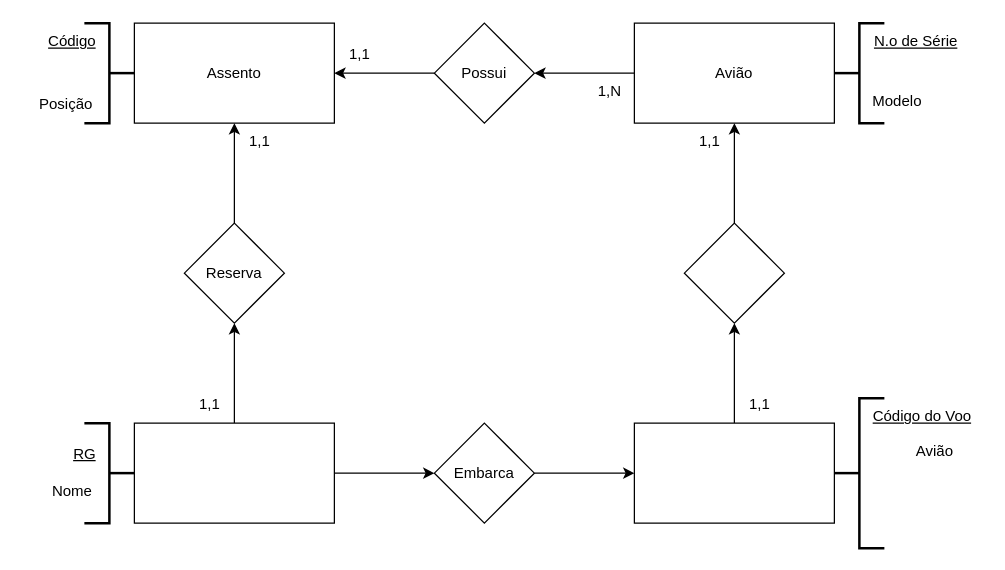
Some shapes in this 1005 by 570 pixel diagram are drawn without their labels. Here are the shapes that lost their labels. From the top down, the centre of each, then its label:
At point 733,272: "Feito por".
At point 233,472: "Passageiro".
At point 733,472: "Voo".
